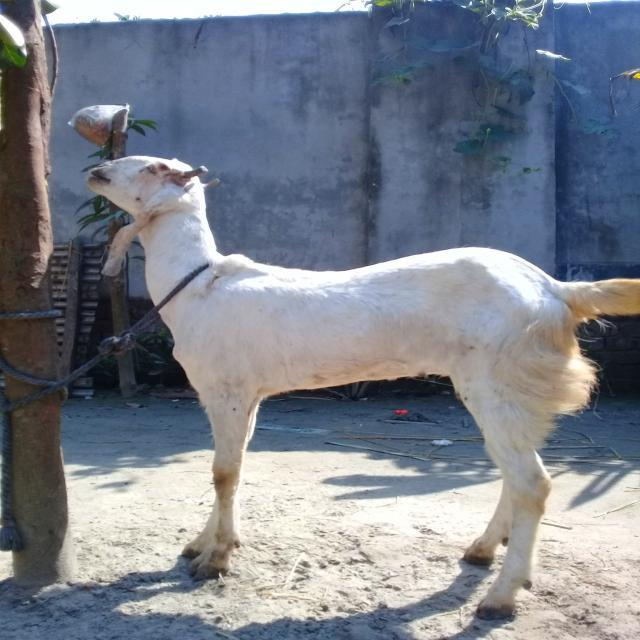Goat: (84, 154, 640, 620)
